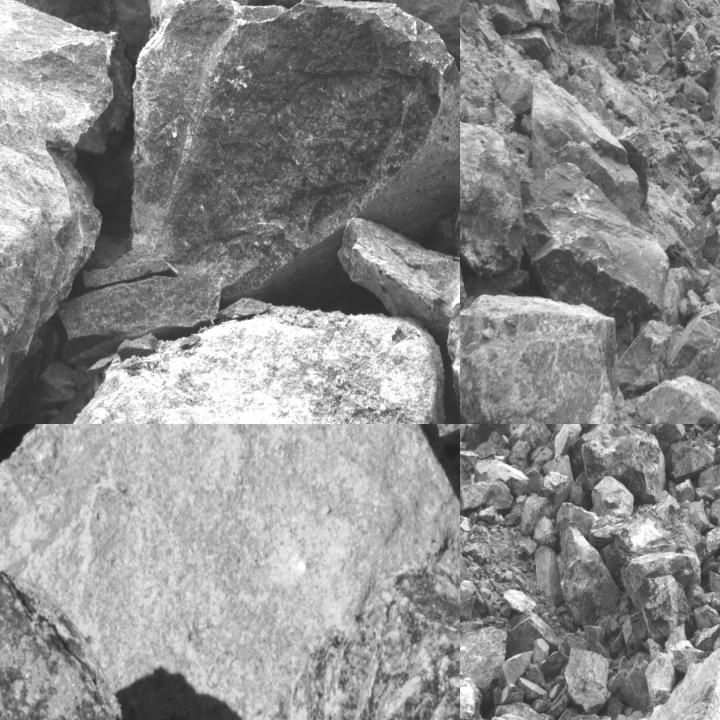stone: (0, 424, 459, 719), (131, 0, 459, 296), (0, 546, 336, 719), (0, 306, 447, 423), (0, 0, 121, 423), (246, 587, 459, 719), (526, 166, 669, 328), (460, 290, 627, 423), (220, 0, 459, 83), (531, 70, 637, 220), (460, 122, 529, 278), (582, 424, 666, 502), (556, 526, 620, 628), (623, 654, 719, 719), (616, 320, 683, 397), (662, 306, 719, 384), (644, 576, 693, 652), (638, 379, 719, 423), (562, 648, 612, 714), (560, 0, 619, 49), (505, 610, 561, 661), (667, 439, 717, 484), (460, 480, 513, 514), (620, 654, 650, 712), (592, 475, 634, 516), (682, 39, 716, 86), (515, 0, 563, 29), (464, 424, 513, 450), (509, 424, 551, 448), (553, 424, 583, 457), (460, 671, 480, 719), (460, 538, 471, 619), (460, 446, 480, 484), (654, 424, 688, 446)
